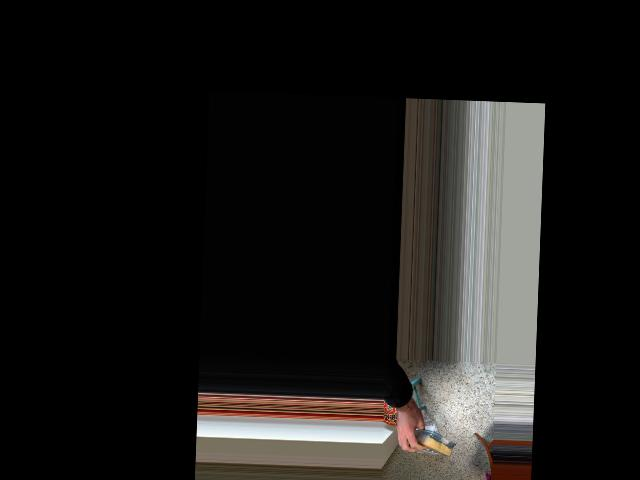cheese: (396, 426, 459, 456)
